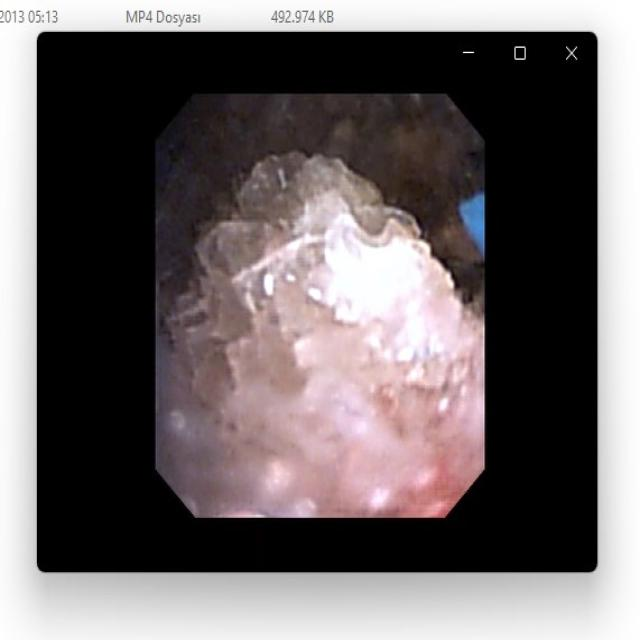stone: (169, 159, 481, 499)
